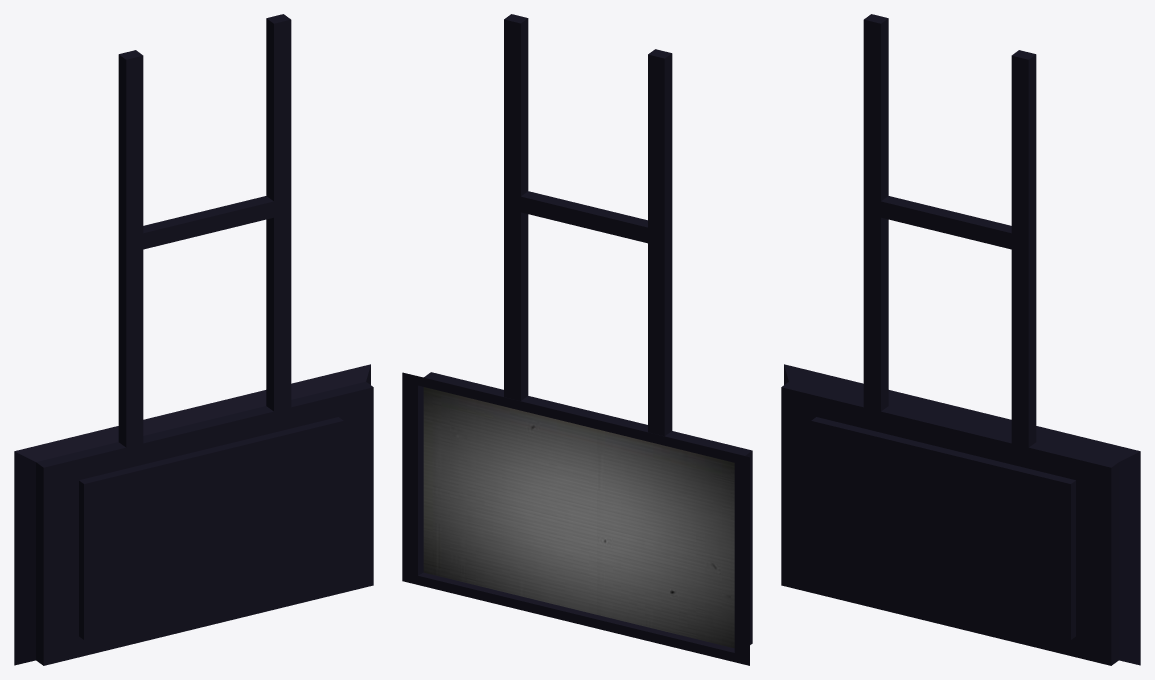
File: tvfbx.fbx
3 renders of one model, left to right at view 1: azimuth 30°, elevation 25°; view 2: azimuth 150°, elevation 25°; view 3: azimuth 330°, elevation 25°, orthographic. The views are drawn at different scales.
Parts seen in each view (by area): view 1: Cube; view 2: Cube; view 3: Cube.
Part boxes in pixels (x1=…): Cube: x1=14, y1=14, x2=373, y2=665; Cube: x1=402, y1=14, x2=752, y2=665; Cube: x1=781, y1=14, x2=1140, y2=665.
Size of the model in its own units: 278 by 442 by 28.72.
Materials: 2 (1 with a texture image).
